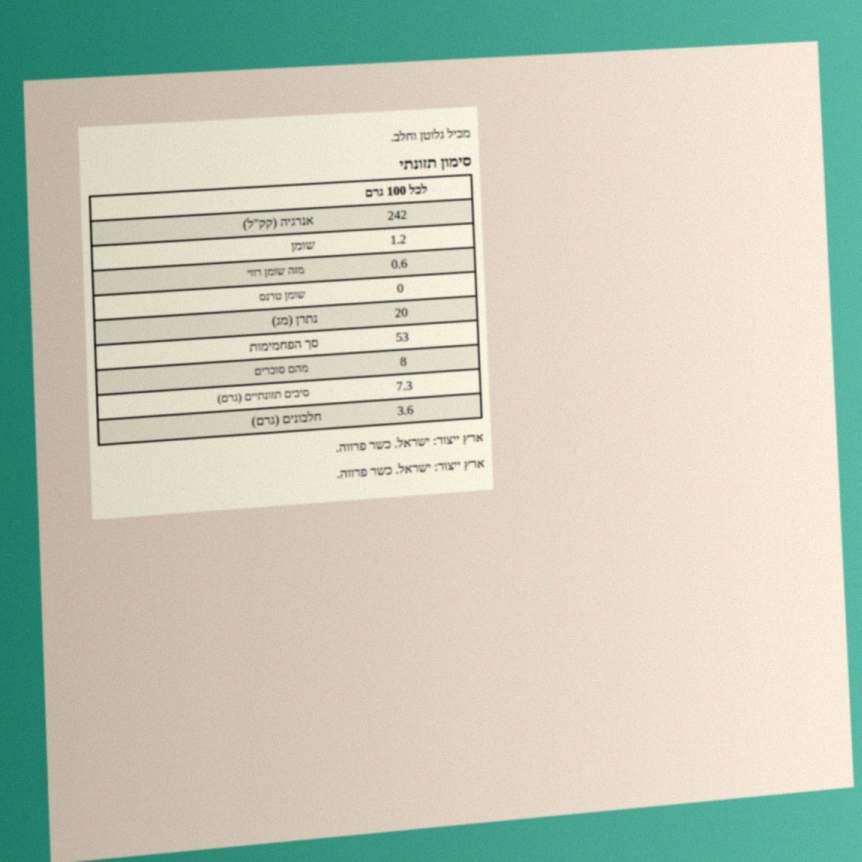carbs: (394, 328, 411, 346)
energy: (386, 206, 409, 224)
fat: (388, 231, 408, 248)
protein: (395, 402, 415, 419)
